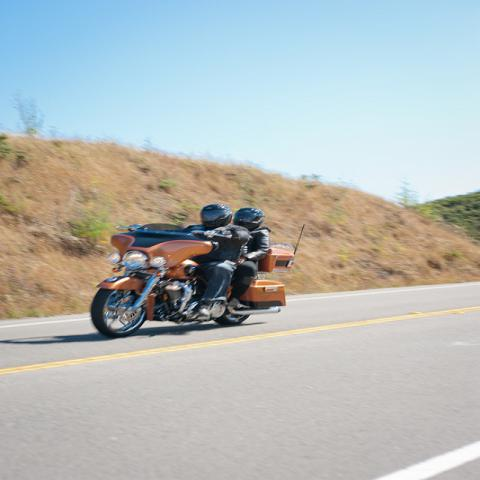motorcycle: (88, 222, 306, 338)
